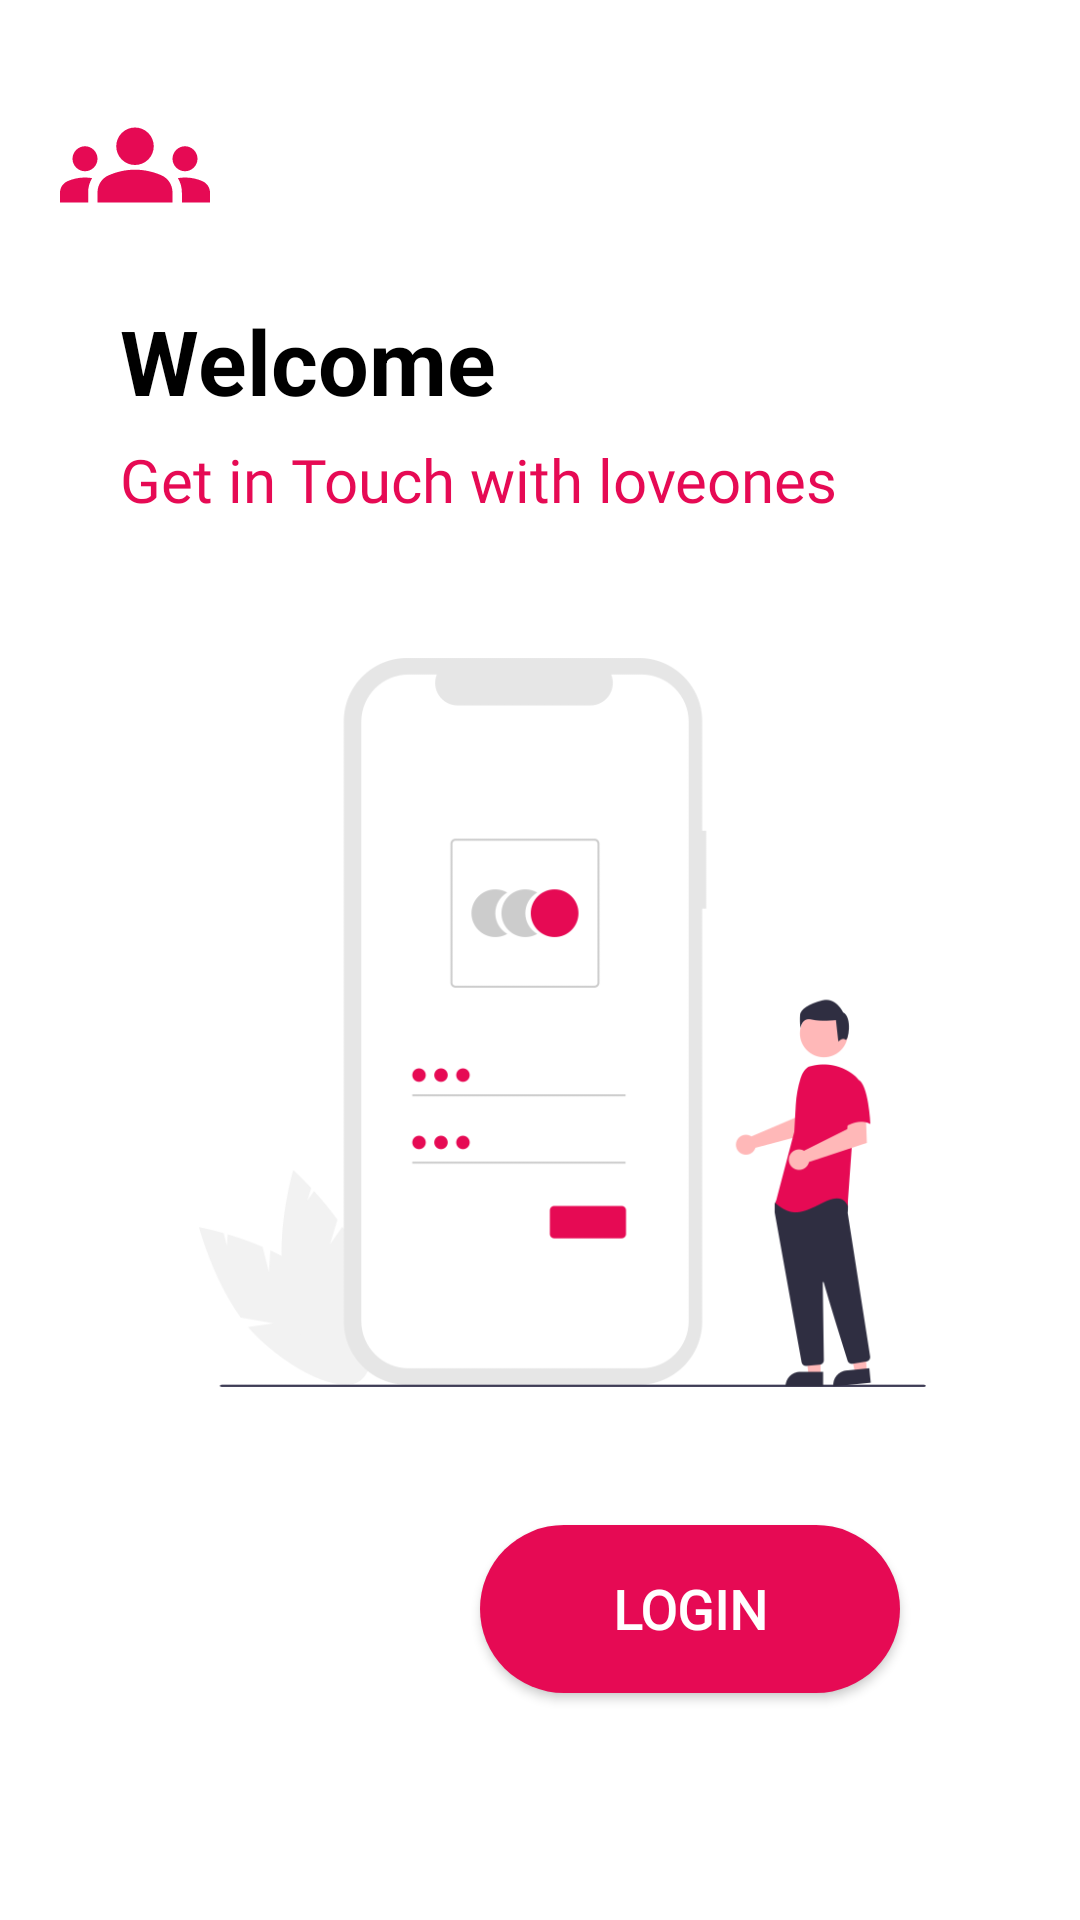

Where to tap for icons on this 1080 × 1920 app screen, as point (x, y):
groups: point (135, 165)
